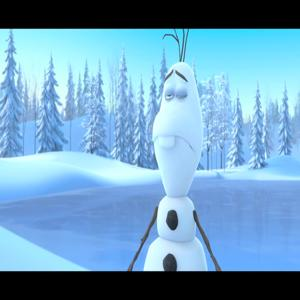olaf: (141, 27, 221, 267)
